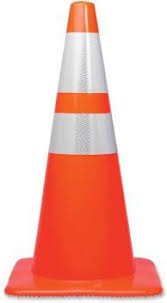cones: (8, 1, 164, 295)
